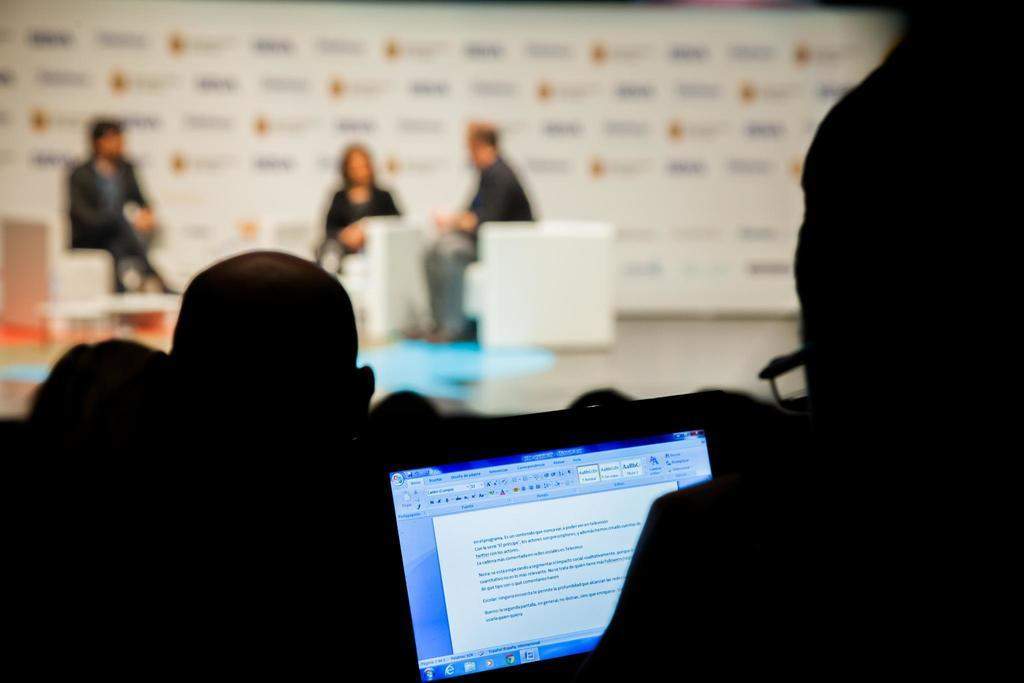Laptop: (358, 418, 747, 683)
